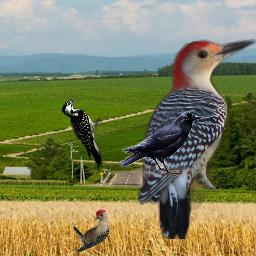Crow: (119, 112, 201, 177)
Woodpecker: (138, 39, 256, 239), (61, 96, 102, 171), (74, 209, 109, 255)
